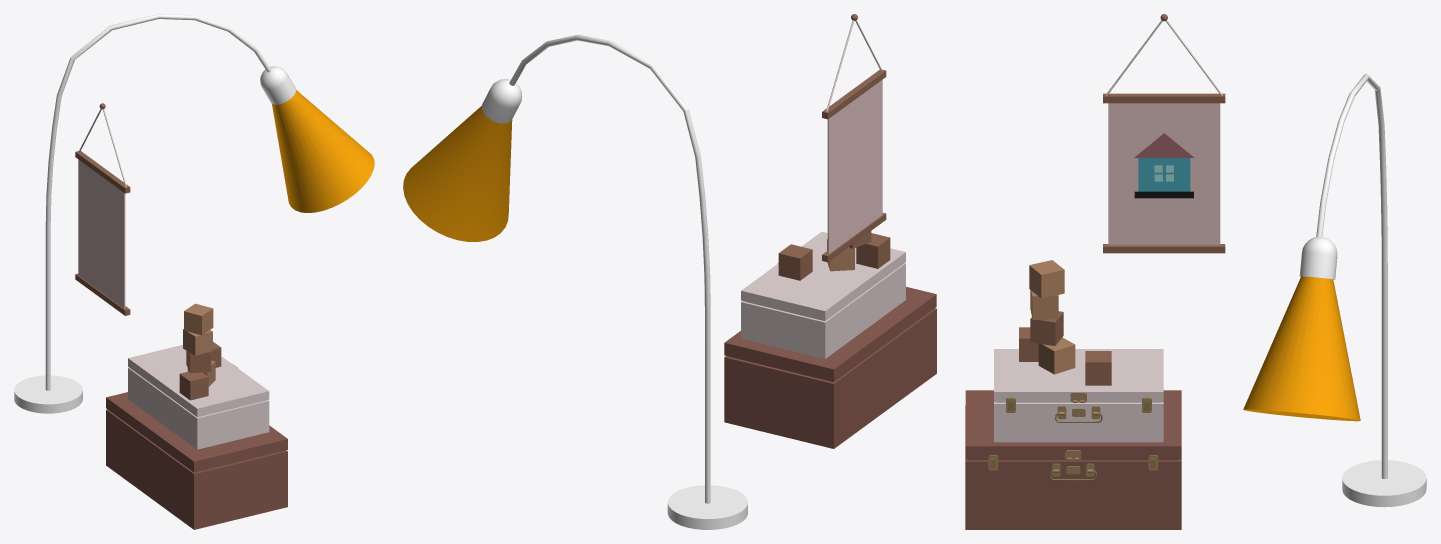
File: Furn4_playzone_left_color2.fbx
The picture shows the model from 3 angles, left to right: view 1: azimuth 30°, elevation 25°; view 2: azimuth 150°, elevation 25°; view 3: azimuth 270°, elevation 25°; orthographic projection. The views are drawn at different scales.
Parts seen in each view (by area): view 1: Цилиндр.065; view 2: Цилиндр.065; view 3: Цилиндр.065.
Part boxes in pixels (x1,y1,x2,y2): Цилиндр.065: [14, 14, 374, 529]; Цилиндр.065: [403, 14, 936, 529]; Цилиндр.065: [965, 14, 1426, 529].
Size of the model in its own units: 459 by 501 by 460.
